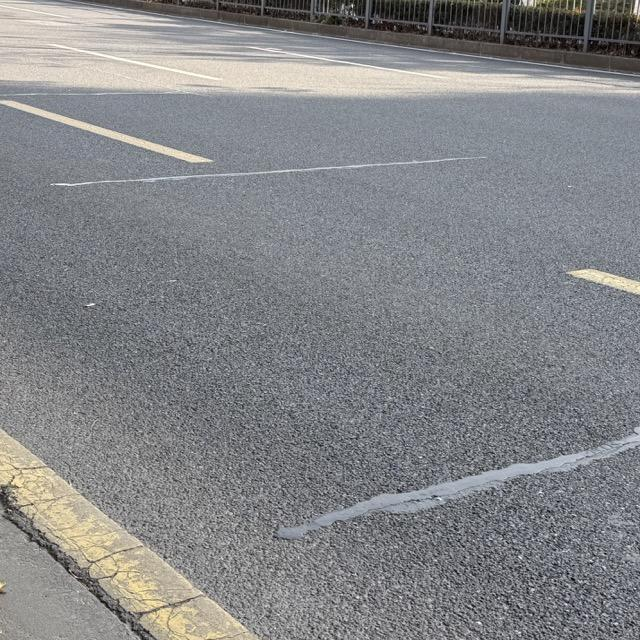curb: (79, 0, 639, 73)
